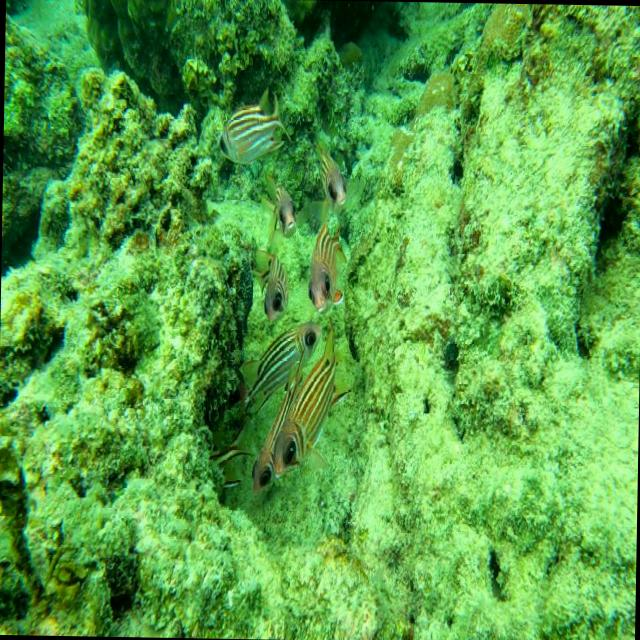Asker Baligi: (276, 337, 346, 495), (244, 312, 319, 431), (217, 85, 292, 167), (246, 252, 296, 326), (302, 226, 346, 310), (316, 146, 354, 213), (260, 196, 302, 248)
